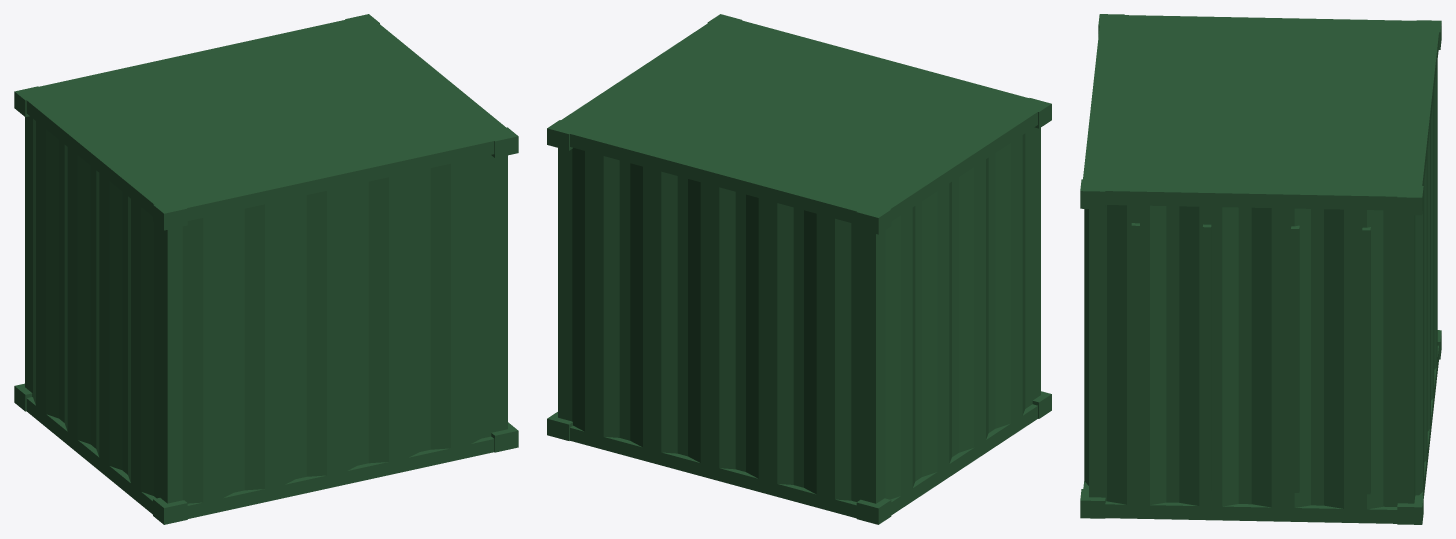
File: GreenContainer.fbx
The picture shows the model from 3 angles, left to right: view 1: azimuth 30°, elevation 25°; view 2: azimuth 150°, elevation 25°; view 3: azimuth 270°, elevation 25°; orthographic projection. The views are drawn at different scales.
Visible parts, largest first — view 1: Container_LP_ForestGreen; view 2: Container_LP_ForestGreen; view 3: Container_LP_ForestGreen.
Boxes of the visible parts, x1,y1,x2,y2 form: Container_LP_ForestGreen: (14, 14, 518, 524); Container_LP_ForestGreen: (547, 14, 1051, 524); Container_LP_ForestGreen: (1080, 14, 1441, 524).
Bounding box in the file's own units: 314 × 259 × 259.
